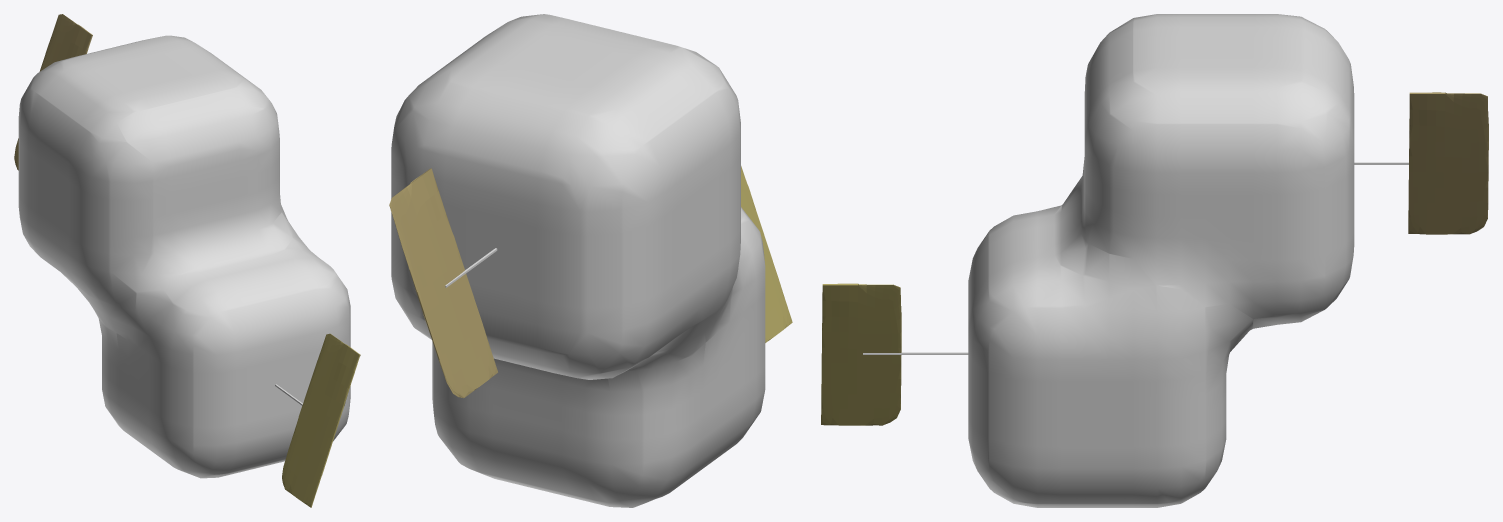
The model's file is satellite13.glb.
3 views of the same model, side by side, from view 1: azimuth 30°, elevation 25°; view 2: azimuth 150°, elevation 25°; view 3: azimuth 270°, elevation 25° (orthographic). The views are drawn at different scales.
Parts seen in each view (by area): view 1: Mball.002, Cube.002, Cube.003; view 2: Mball.002, Cube.003, Cube.002; view 3: Mball.002, Cube.003, Cube.002.
Part boxes in pixels (<box>): Mball.002: <box>18,35,350,478</box>; Cube.002: <box>282,333,360,507</box>; Cube.003: <box>14,14,92,170</box>; Mball.002: <box>391,14,765,507</box>; Cube.003: <box>389,168,497,397</box>; Cube.002: <box>741,166,792,342</box>; Mball.002: <box>968,14,1354,507</box>; Cube.003: <box>1408,92,1488,234</box>; Cube.002: <box>821,283,901,425</box>.
Size of the model in its own units: 3.02 by 4.58 by 6.71.
